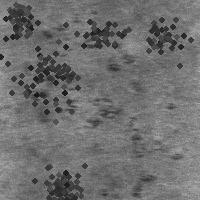rolled-in_scale: (35, 76, 156, 197), (0, 24, 96, 124), (40, 18, 132, 72), (134, 5, 192, 63), (71, 3, 127, 59), (30, 156, 92, 200), (0, 0, 39, 39)
